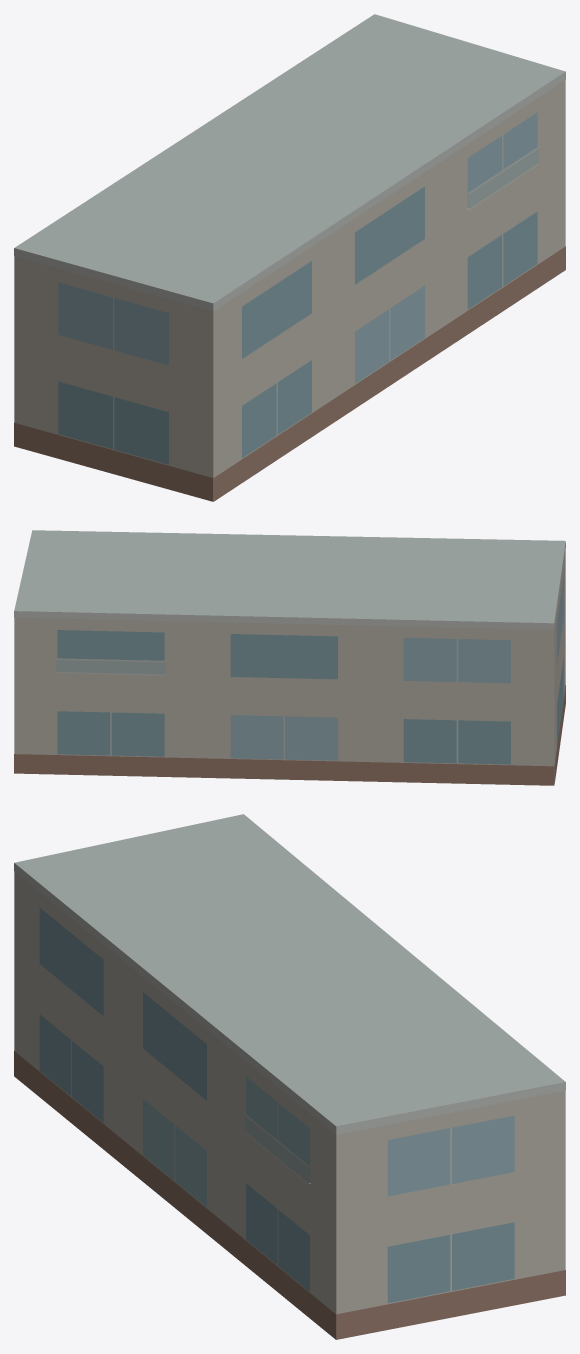
File: survey-upis-32669652.glb
The picture shows the model from 3 angles, top to bottom: view 1: azimuth 30°, elevation 25°; view 2: azimuth 150°, elevation 25°; view 3: azimuth 270°, elevation 25°; orthographic projection. The views are drawn at different scales.
Parts seen in each view (by area): view 1: survey-upis-32669652.tmp; view 2: survey-upis-32669652.tmp; view 3: survey-upis-32669652.tmp.
Boxes of the visible parts, x1,y1,x2,y2 form: survey-upis-32669652.tmp: (14,14,565,501); survey-upis-32669652.tmp: (14,530,565,785); survey-upis-32669652.tmp: (14,814,565,1339).
Bounding box in the file's own units: 19.14 × 6.1 × 14.29.
